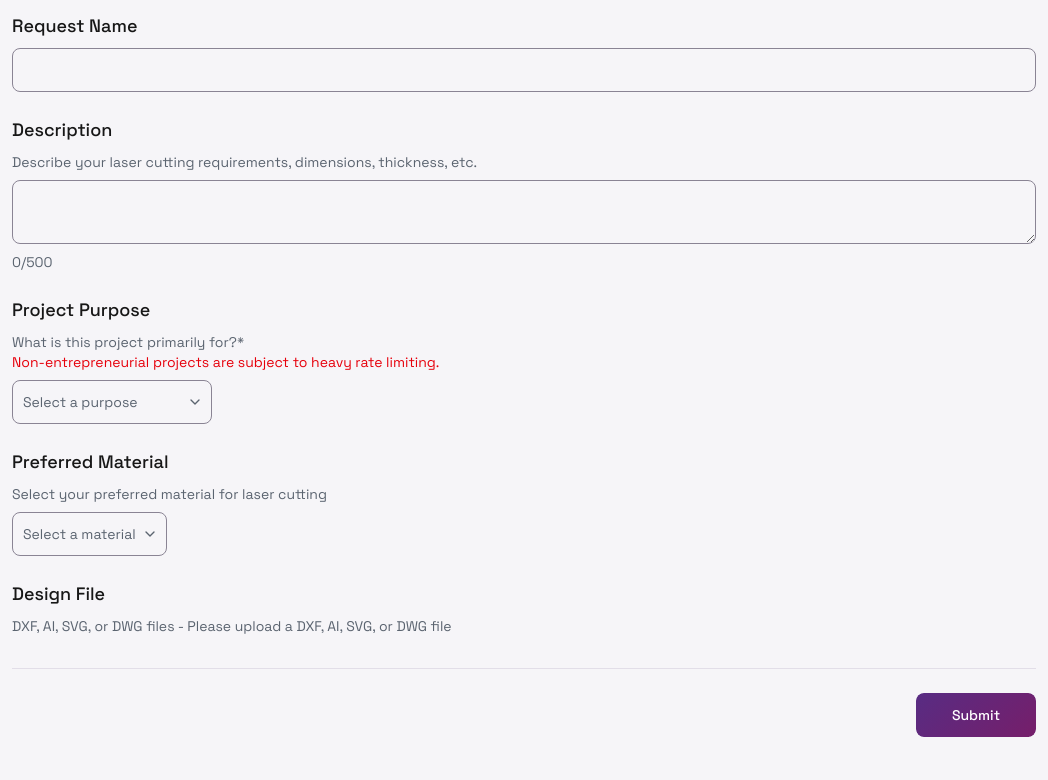
Test: LaserCuttingJobForm Integration › material selection logic › can select different laser cutting materials
Click the dropdown labelled "Select a material" at (89, 534), box x1=12 y1=512 x2=167 y2=556
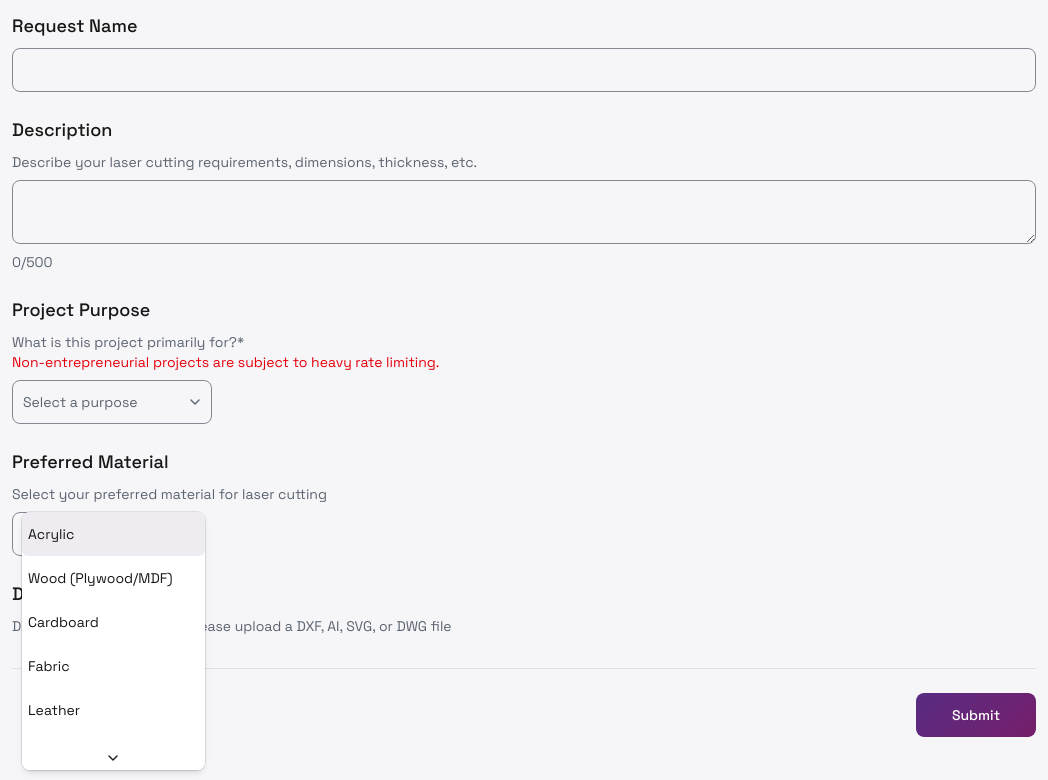
Click the option "Acrylic" at (113, 534), box x1=22 y1=512 x2=204 y2=556
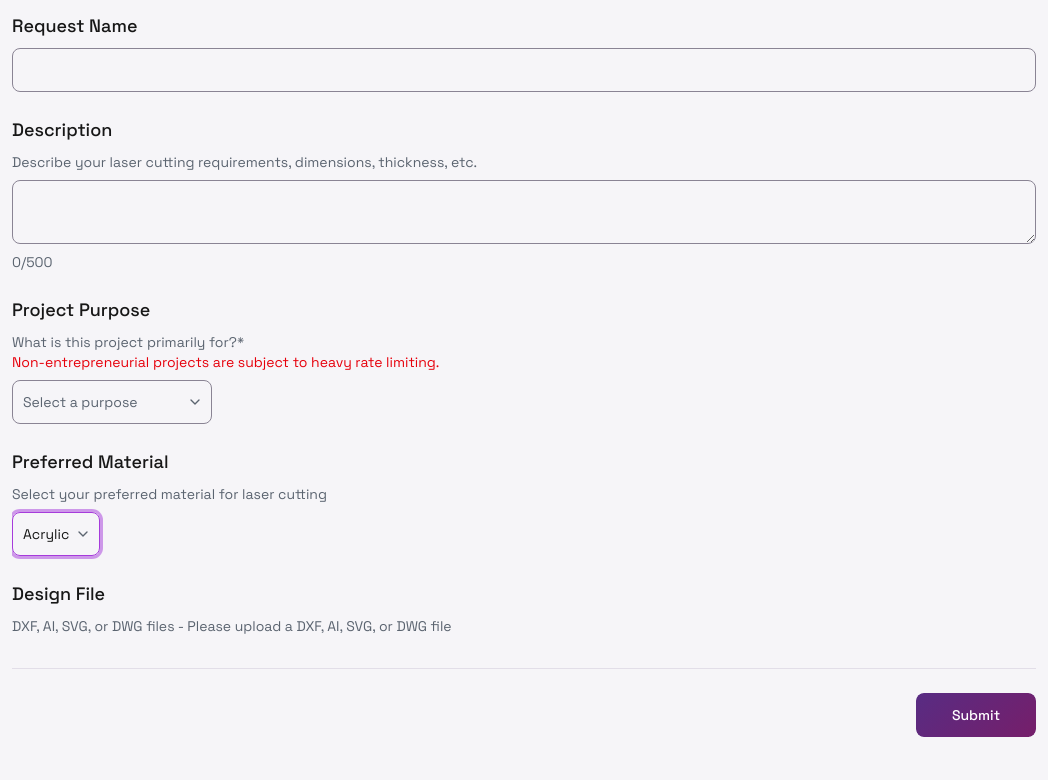
Expected: the dropdown labelled "Acrylic" is shown, x1=12 y1=512 x2=100 y2=556
